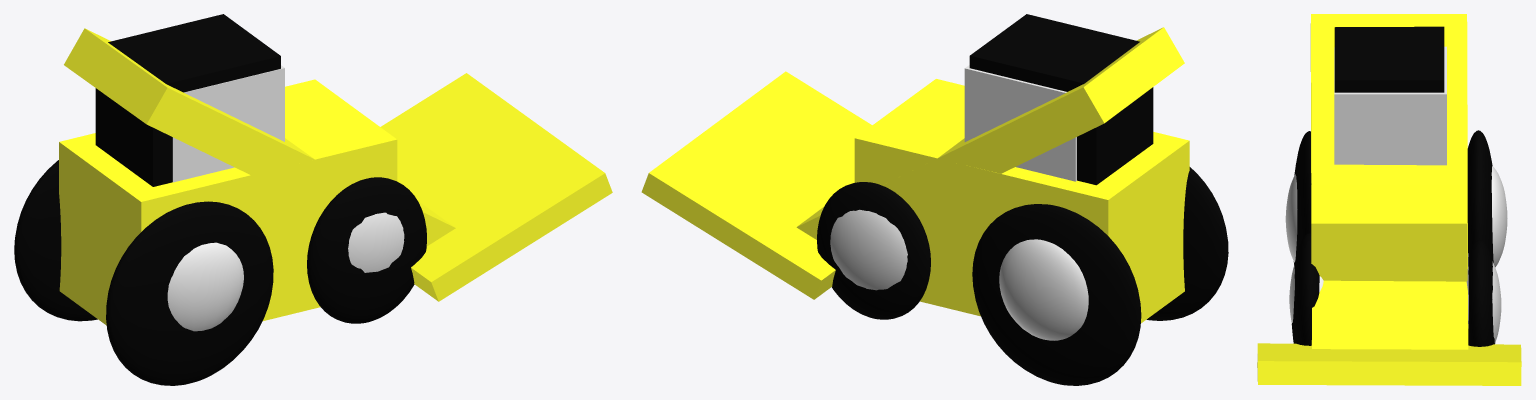
Rendered from turkish_dozer.glb.
3 renders of one model, left to right at view 1: azimuth 30°, elevation 25°; view 2: azimuth 150°, elevation 25°; view 3: azimuth 270°, elevation 25°, orthographic. The views are drawn at different scales.
Visible parts, largest first — view 1: 📦 قطعة_1_نسخة (×2), 📦 قطعة_1, 🔴 قطعة_3, 🔴 قطعة_3_نسخة (×2), 📦 قطعة_2, 🔴 قطعة_5, 📦 قطعة_4, 🔴 قطعة_5_نسخة, 📦 قطعة_4_نسخة; view 2: 📦 قطعة_1_نسخة (×2), 📦 قطعة_1, 🔴 قطعة_3_نسخة, 📦 قطعة_2, 🔴 قطعة_3_نسخة_نسخة, 🔴 قطعة_5_نسخة, 🔴 قطعة_3, 🔴 قطعة_5_نسخة_نسخة, 📦 قطعة_4, 📦 قطعة_4_نسخة; view 3: 📦 قطعة_1_نسخة (×2), 📦 قطعة_1, 📦 قطعة_4_نسخة, 📦 قطعة_2, 🔴 قطعة_3_نسخة (×2), 🔴 قطعة_3_نسخة_نسخة, 🔴 قطعة_3, 🔴 قطعة_5_نسخة (×2), 🔴 قطعة_5, 🔴 قطعة_5_نسخة_نسخة.
Boxes of the visible parts, <box> form: 📦 قطعة_1_نسخة (×2): <box>64,28,612,301</box>; 📦 قطعة_1: <box>59,79,397,325</box>; 🔴 قطعة_3: <box>106,201,273,385</box>; 🔴 قطعة_3_نسخة (×2): <box>14,160,426,323</box>; 📦 قطعة_2: <box>95,14,280,186</box>; 🔴 قطعة_5: <box>167,242,243,331</box>; 📦 قطعة_4: <box>172,71,272,182</box>; 🔴 قطعة_5_نسخة: <box>348,212,404,272</box>; 📦 قطعة_4_نسخة: <box>185,65,284,178</box>; 📦 قطعة_1_نسخة (×2): <box>641,27,1184,299</box>; 📦 قطعة_1: <box>854,79,1189,323</box>; 🔴 قطعة_3_نسخة: <box>972,204,1141,385</box>; 📦 قطعة_2: <box>969,14,1153,185</box>; 🔴 قطعة_3_نسخة_نسخة: <box>817,182,930,319</box>; 🔴 قطعة_5_نسخة: <box>999,239,1088,340</box>; 🔴 قطعة_3: <box>1146,167,1228,320</box>; 🔴 قطعة_5_نسخة_نسخة: <box>830,209,907,290</box>; 📦 قطعة_4: <box>977,70,1076,181</box>; 📦 قطعة_4_نسخة: <box>964,65,1063,178</box>; 📦 قطعة_1_نسخة (×2): <box>1257,14,1521,385</box>; 📦 قطعة_1: <box>1311,105,1467,281</box>; 📦 قطعة_4_نسخة: <box>1334,48,1446,165</box>; 📦 قطعة_2: <box>1334,26,1444,92</box>; 🔴 قطعة_3_نسخة (×2): <box>1291,130,1493,345</box>; 🔴 قطعة_3_نسخة_نسخة: <box>1468,239,1495,346</box>; 🔴 قطعة_3: <box>1293,131,1311,265</box>; 🔴 قطعة_5_نسخة (×2): <box>1289,166,1507,323</box>; 🔴 قطعة_5: <box>1285,174,1297,262</box>; 🔴 قطعة_5_نسخة_نسخة: <box>1466,253,1501,342</box>.
Size of the model in its own units: 33.91 by 20.17 by 16.9.
